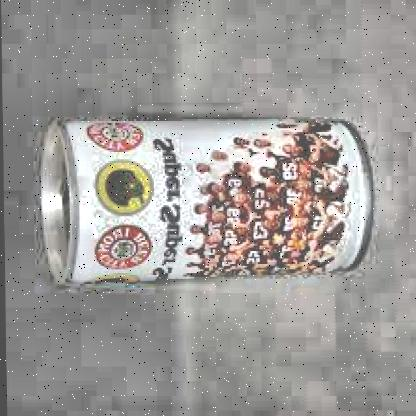Can: (34, 113, 376, 290)
